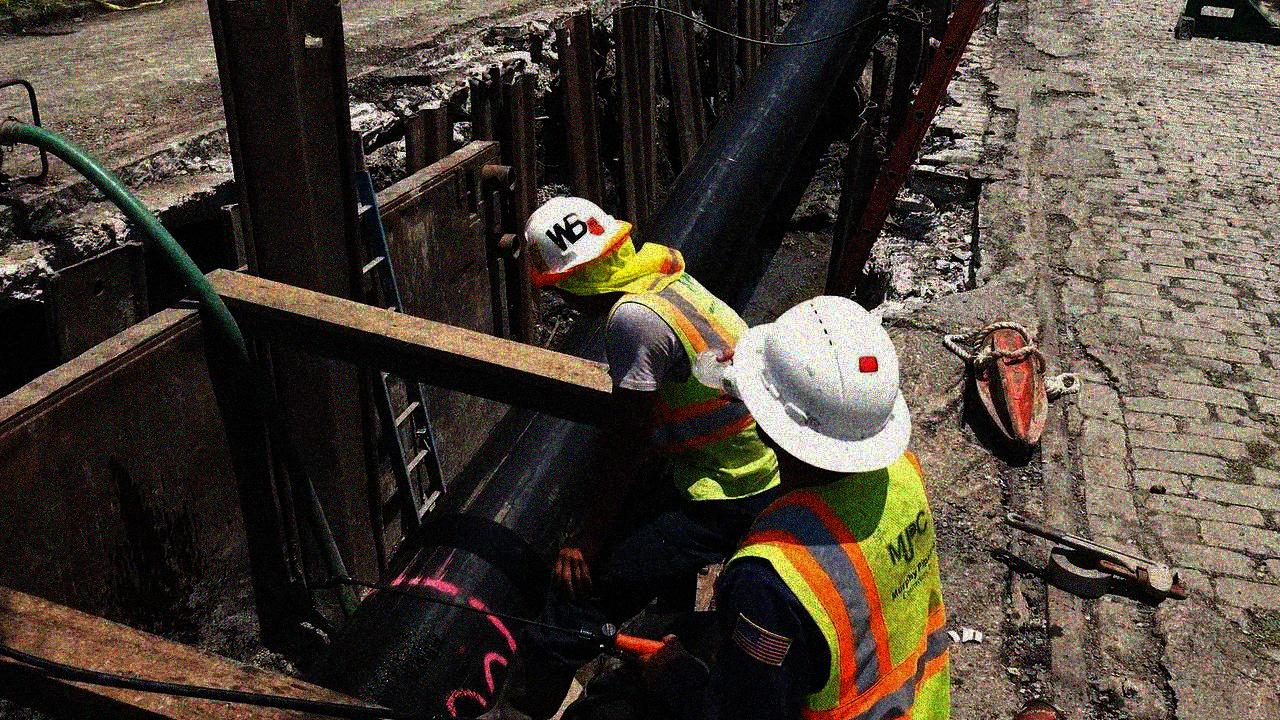helmet: (731, 293, 915, 487), (522, 188, 636, 311)
